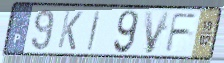9: (113, 8, 140, 55), (29, 8, 56, 52)
F: (164, 12, 200, 54)
I: (85, 9, 103, 53)
K: (56, 9, 85, 52)
V: (143, 9, 173, 56)
